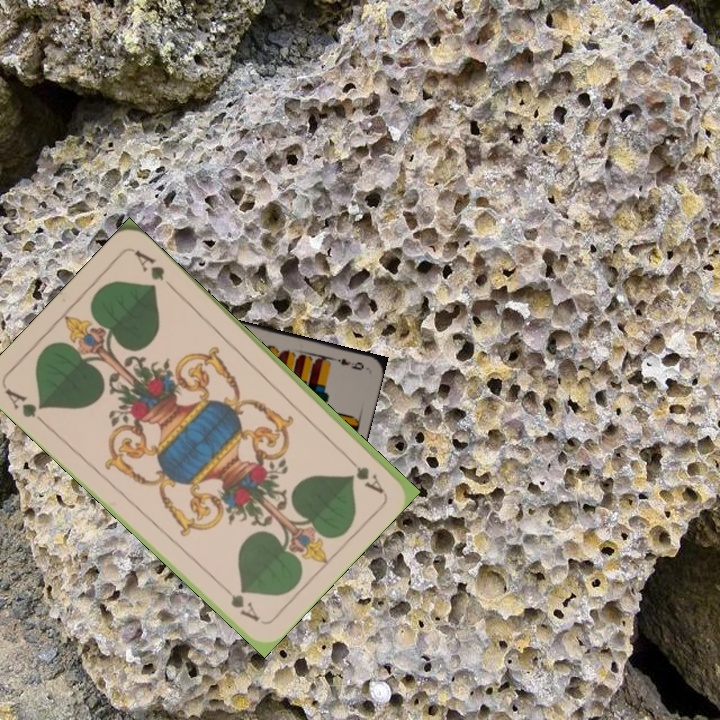E9: (329, 354, 367, 373)
GA: (339, 448, 386, 496), (1, 384, 50, 428)
